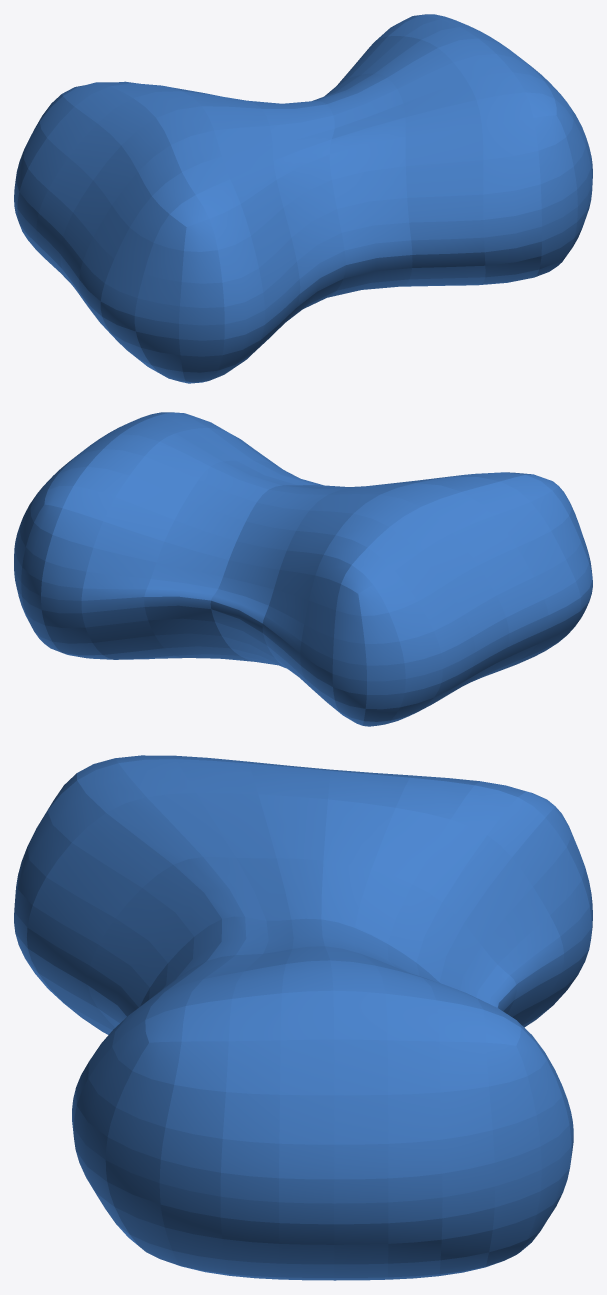
Rendered from snow2.obj.
The picture shows the model from 3 angles, top to bottom: view 1: azimuth 30°, elevation 25°; view 2: azimuth 150°, elevation 25°; view 3: azimuth 270°, elevation 25°; orthographic projection. The views are drawn at different scales.
Parts seen in each view (by area): view 1: Cube.001; view 2: Cube.001; view 3: Cube.001.
Boxes of the visible parts, left/top/right/bottom form: Cube.001: left=14, top=14, right=592, bottom=383; Cube.001: left=14, top=412, right=592, bottom=726; Cube.001: left=14, top=755, right=592, bottom=1280.
Size of the model in its own units: 3.85 by 1.53 by 2.67.
